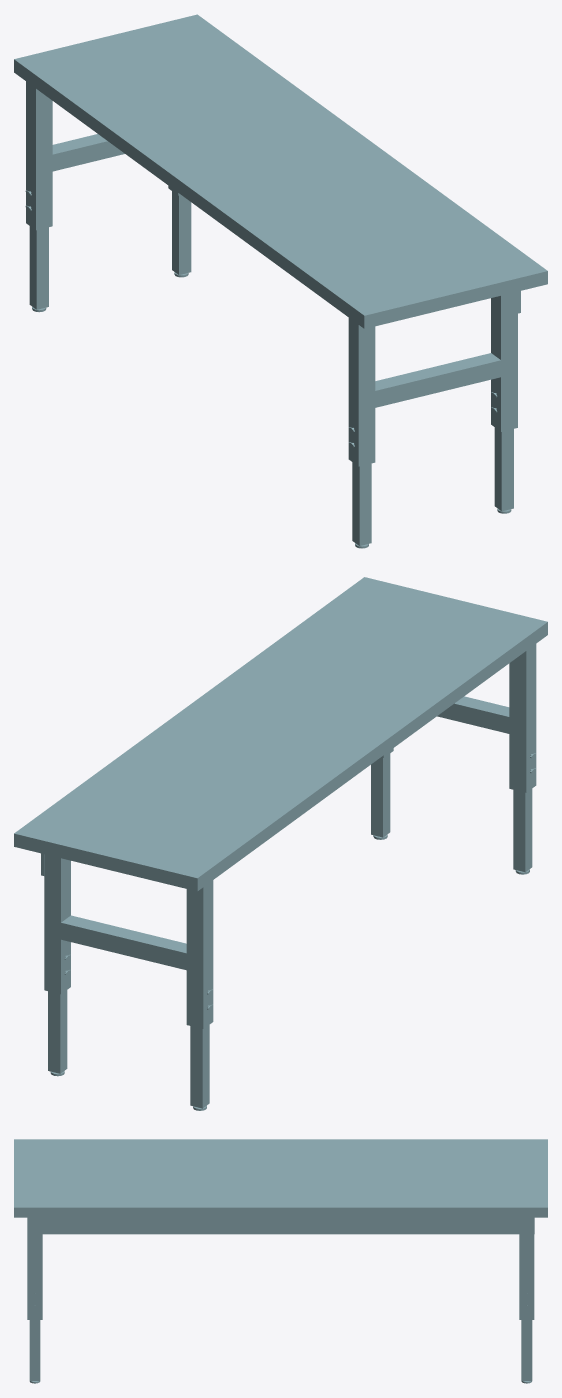
The model's file is Table.fbx.
3 views of the same model, one above another, from view 1: azimuth 30°, elevation 25°; view 2: azimuth 150°, elevation 25°; view 3: azimuth 270°, elevation 25° (orthographic). The views are drawn at different scales.
Parts seen in each view (by area): view 1: stol___stul_polySurface204; view 2: stol___stul_polySurface204; view 3: stol___stul_polySurface204.
Boxes of the visible parts, x1=… form: stol___stul_polySurface204: x1=14, y1=14, x2=547, y2=548; stol___stul_polySurface204: x1=14, y1=577, x2=547, y2=1110; stol___stul_polySurface204: x1=14, y1=1139, x2=547, y2=1383.
Bounding box in the file's own units: 0.6669 × 0.8424 × 2.21.
